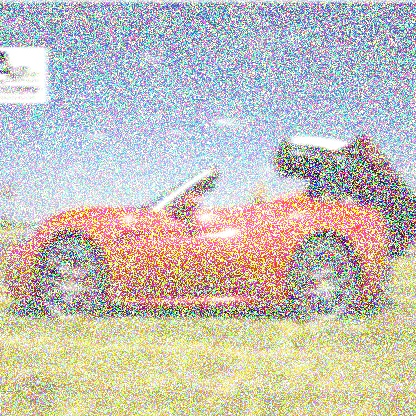Vehicle: (5, 134, 415, 322)
